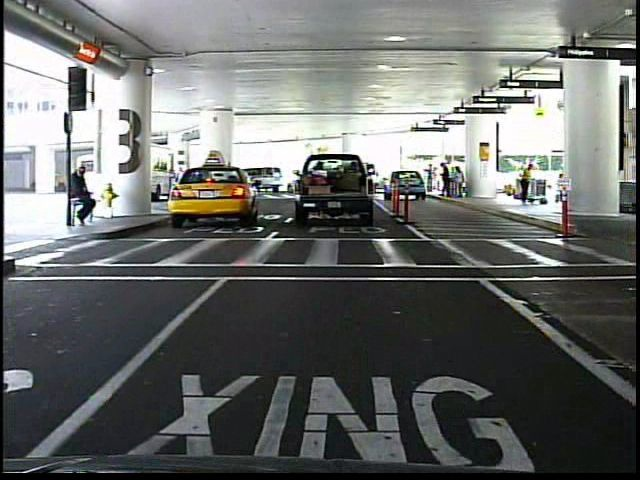person: (71, 160, 100, 231), (515, 158, 536, 209), (424, 162, 437, 196)
